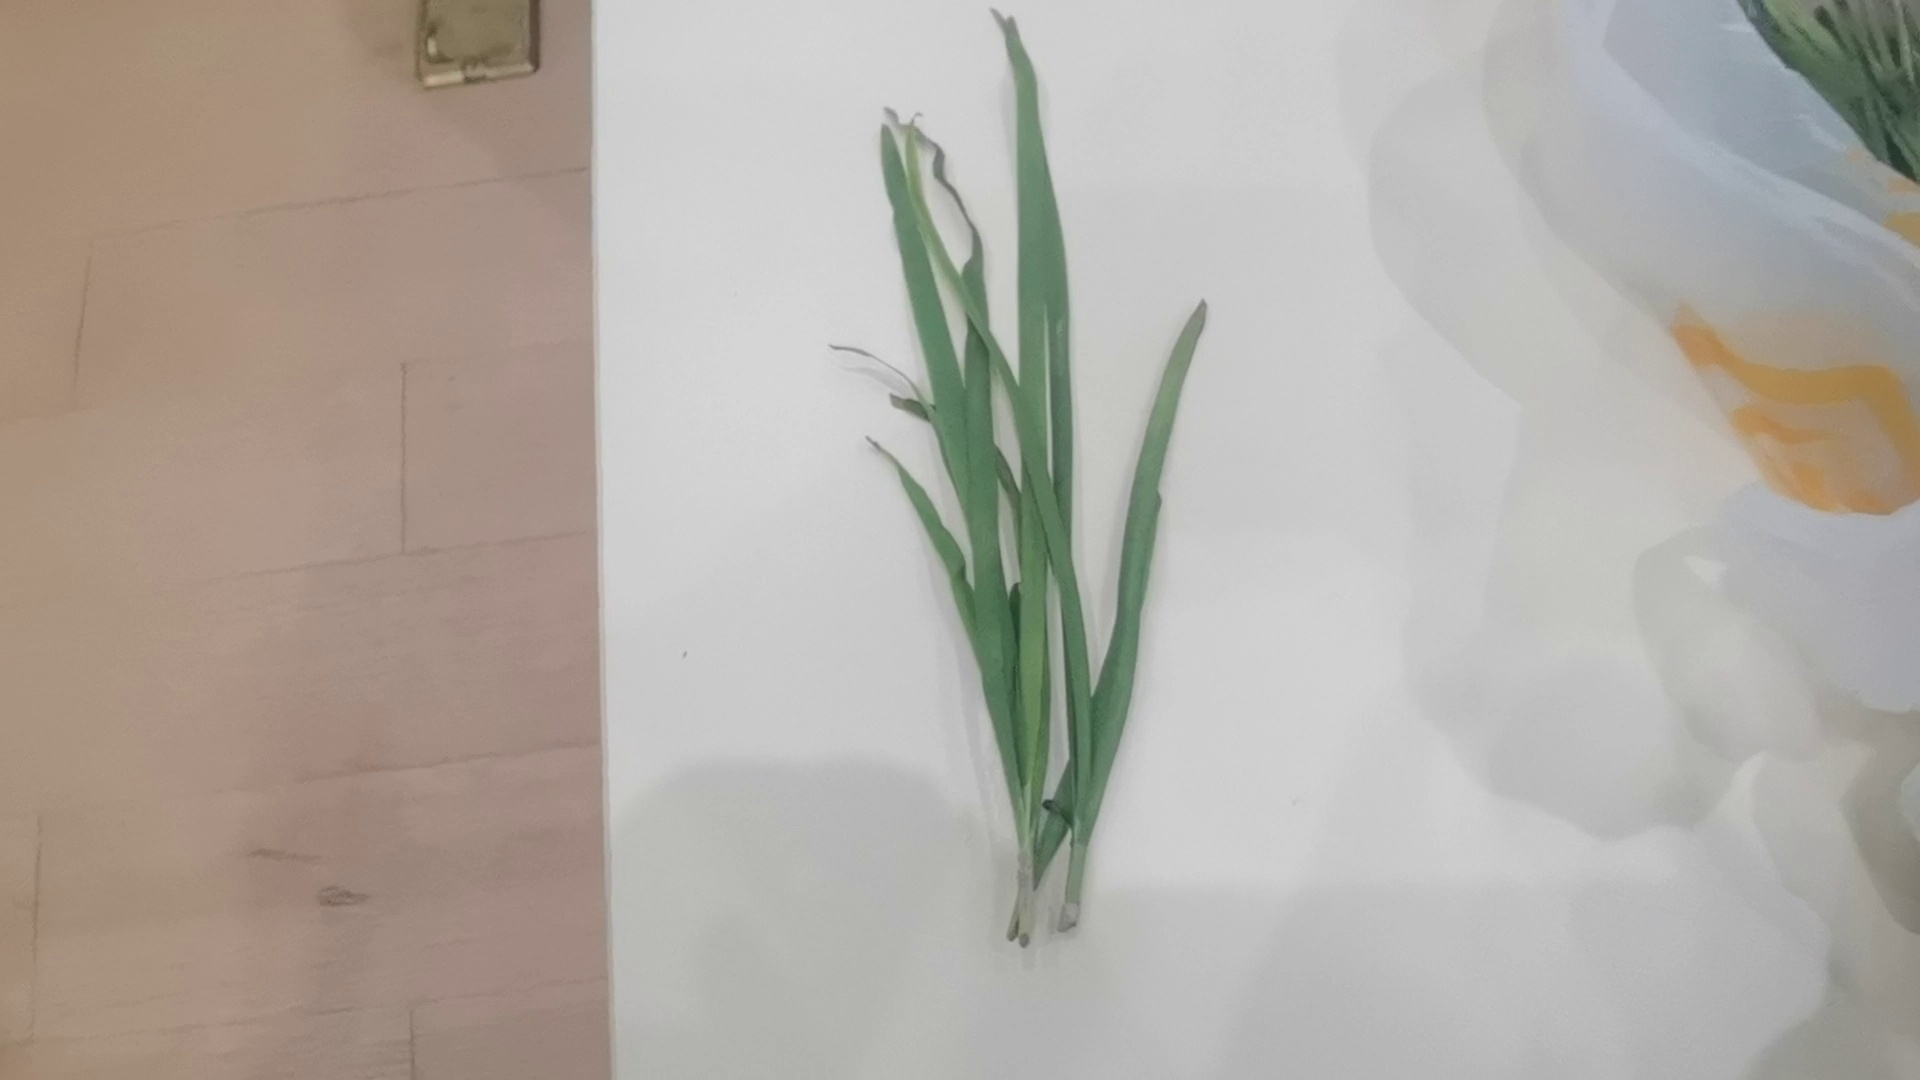chives: (815, 16, 1269, 975)
